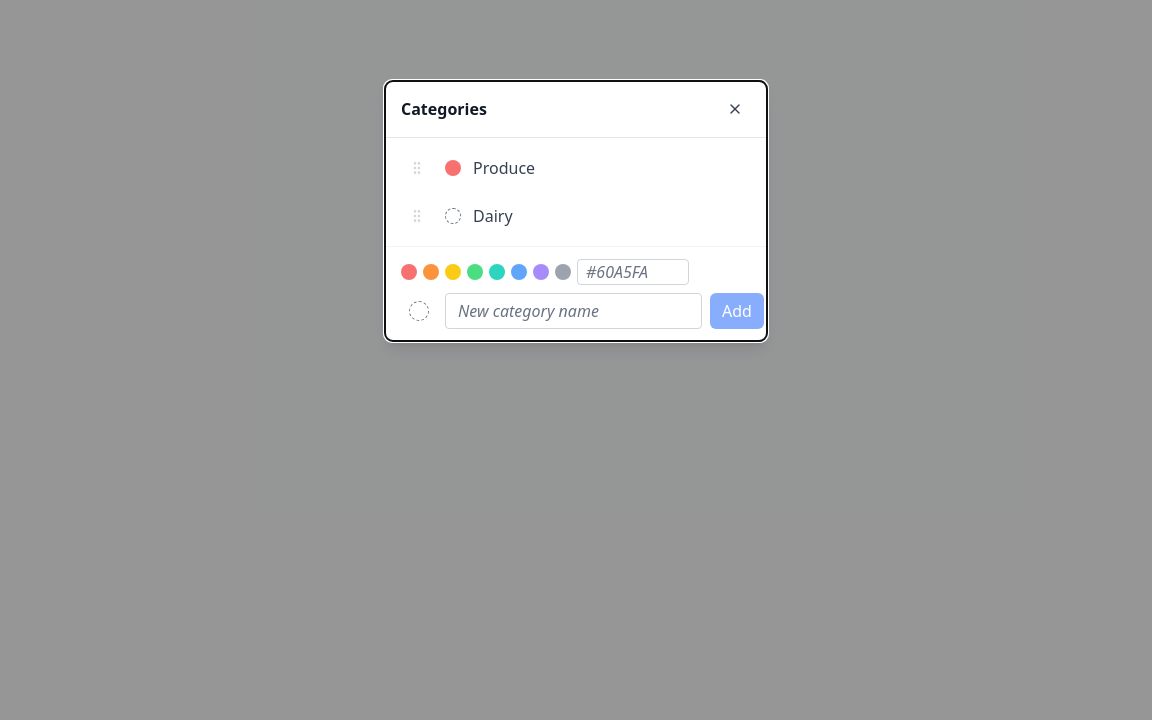
CategoryConfigDialog layout and accessibility › keeps narrow-layout controls accessible with stable target classes
This screenshot has width=1152, height=720.
expect the button named "Close" is shown: met, box [719,93,751,125]
expect the number of elements named "Drag to reorder category" is 2: met, box [409,160,425,176]; [409,208,425,224]
Click the button named "Edit color for Dairy": click(453, 216) [437,200,469,232]
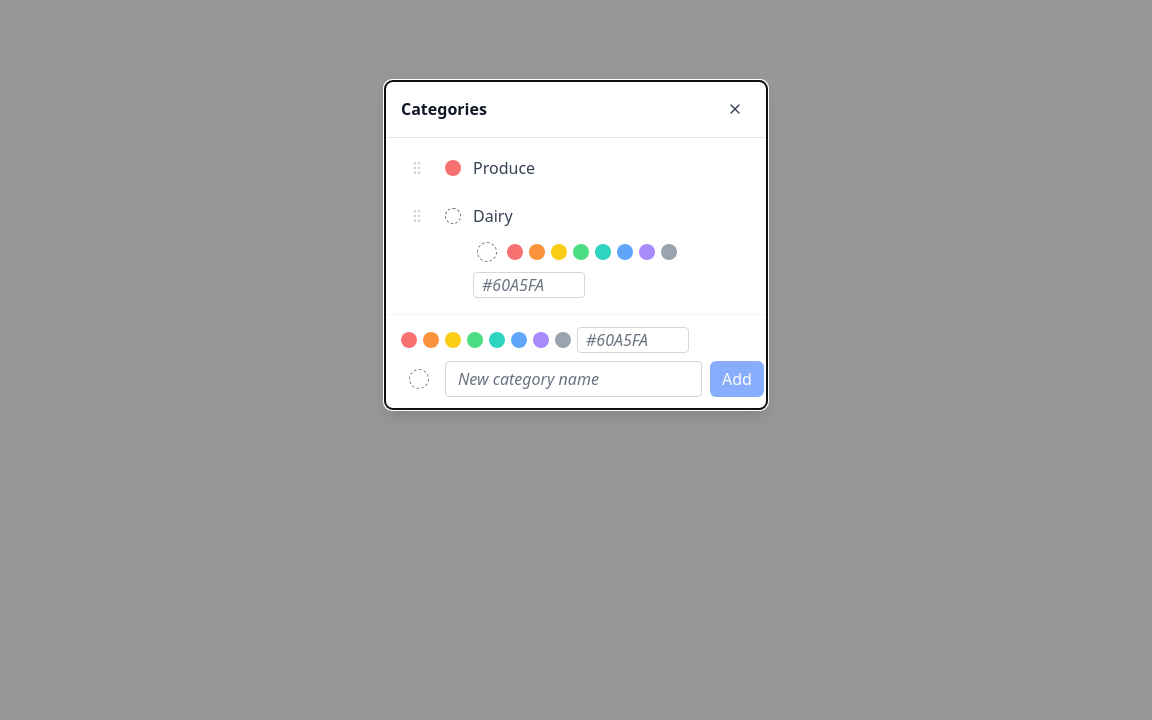
expect the field named "Color for Dairy custom hex" is shown: met, box [473,272,585,298]
expect the button named "Color for Dairy no color" is shown: met, box [473,238,501,266]
